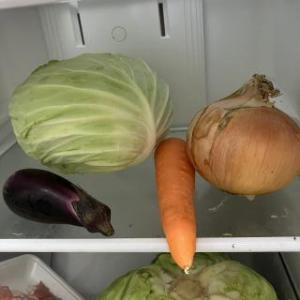cabbage: (7, 52, 172, 178), (94, 250, 284, 300)
carrot: (153, 138, 203, 274)
eggplant: (2, 168, 116, 238)
onion: (184, 72, 300, 202)
